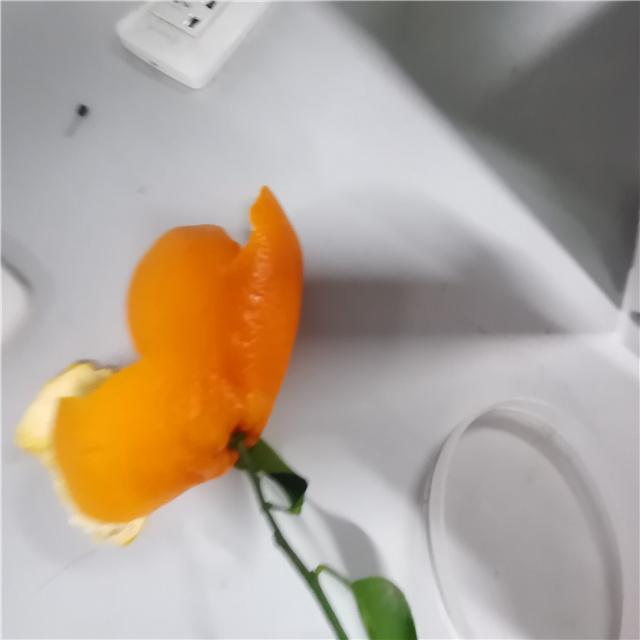orange peel: (16, 184, 304, 543)
